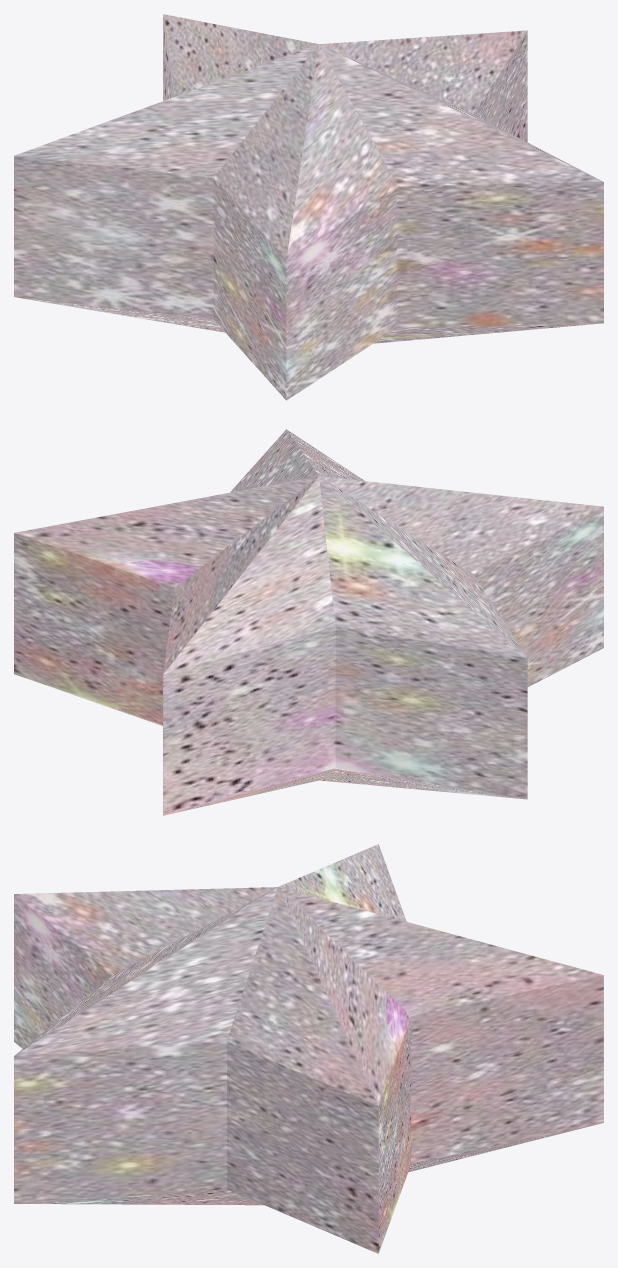
Rendered from starwhite.glb.
The picture shows the model from 3 angles, top to bottom: view 1: azimuth 30°, elevation 25°; view 2: azimuth 150°, elevation 25°; view 3: azimuth 270°, elevation 25°; orthographic projection. The views are drawn at different scales.
Visible parts, largest first — view 1: Cylinder.003; view 2: Cylinder.003; view 3: Cylinder.003.
Boxes of the visible parts, left/top/right/bottom form: Cylinder.003: left=14, top=14, right=603, bottom=400; Cylinder.003: left=14, top=429, right=603, bottom=815; Cylinder.003: left=14, top=844, right=603, bottom=1253.
Bounding box in the file's own units: 1.9 × 1.08 × 1.81.
1 material, 1 textured.
